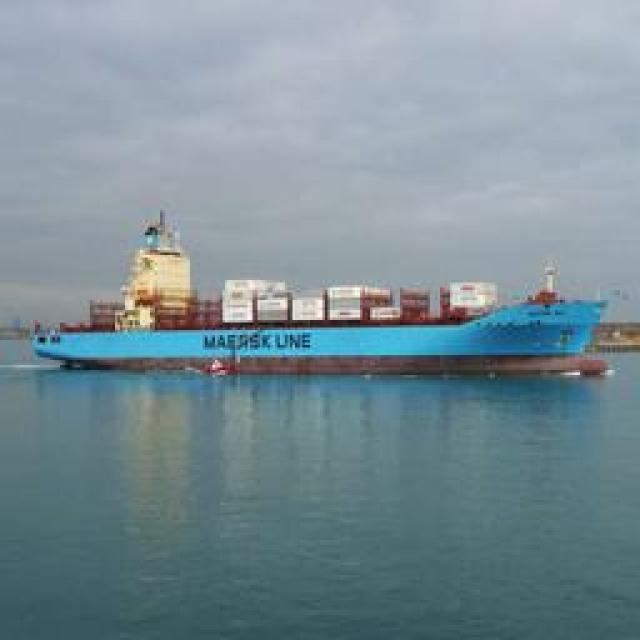Ship: (37, 233, 600, 378)
